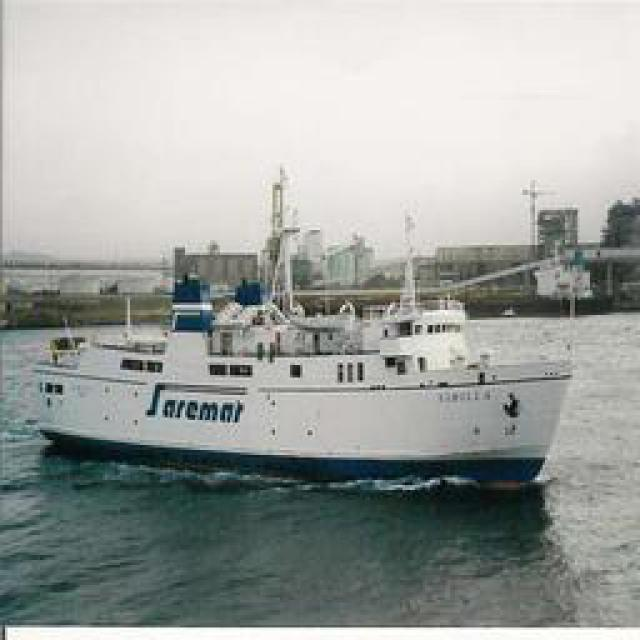Ship: (29, 188, 579, 493)
